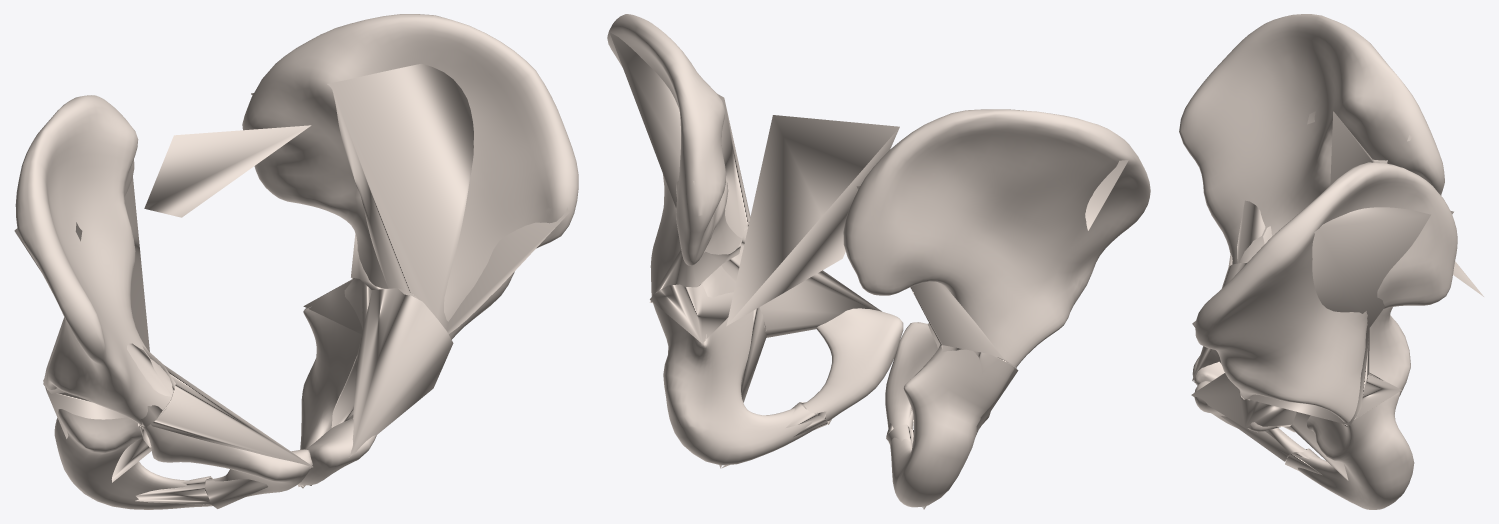
Rendered from pelvis.glb.
3 renders of one model, left to right at view 1: azimuth 30°, elevation 25°; view 2: azimuth 150°, elevation 25°; view 3: azimuth 270°, elevation 25°, orthographic. The views are drawn at different scales.
Parts seen in each view (by area): view 1: VH_M_sacrum; view 2: VH_M_sacrum; view 3: VH_M_sacrum.
Boxes of the visible parts, x1,y1,x2,y2 form: VH_M_sacrum: [14, 14, 578, 509]; VH_M_sacrum: [607, 14, 1150, 509]; VH_M_sacrum: [1179, 14, 1483, 509].
Bounding box in the file's own units: 0.2819 × 0.2155 × 0.16.
